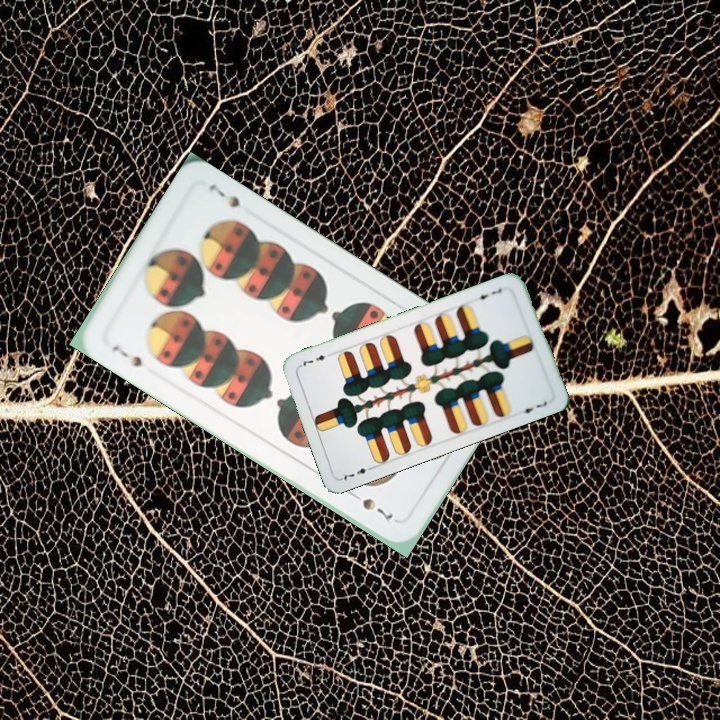E7: (337, 462, 377, 483), (472, 284, 505, 302)
S7: (107, 341, 145, 370)
